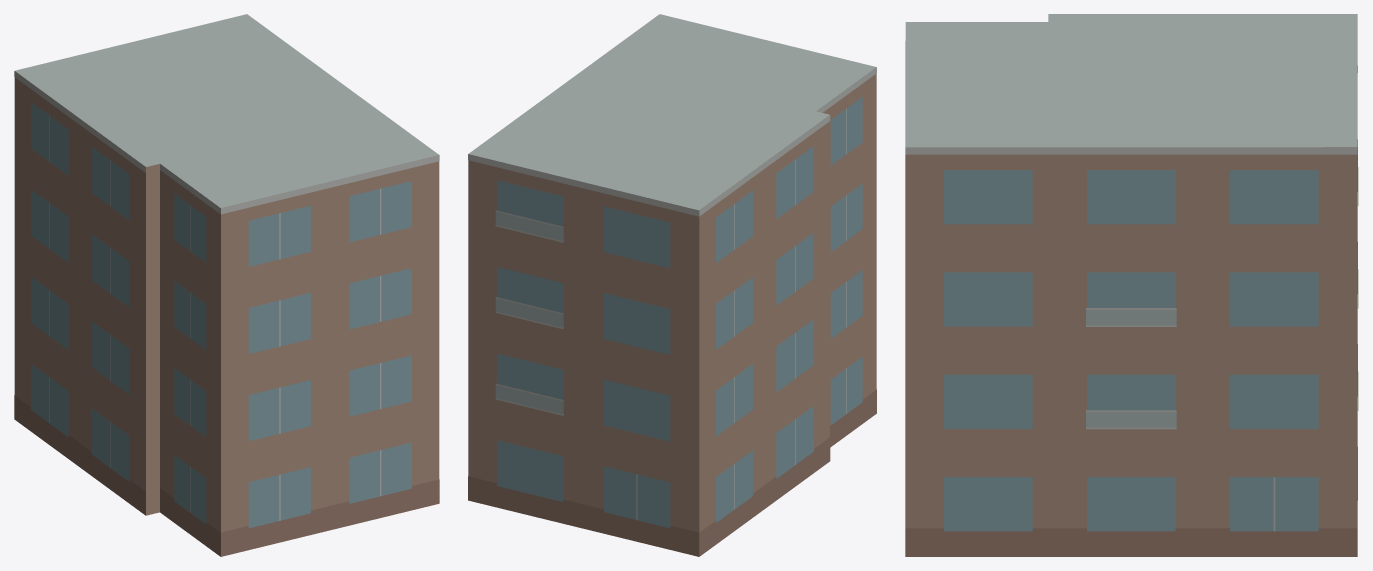
File: survey-upis-32550157.glb
The picture shows the model from 3 angles, left to right: view 1: azimuth 30°, elevation 25°; view 2: azimuth 150°, elevation 25°; view 3: azimuth 270°, elevation 25°; orthographic projection. The views are drawn at different scales.
Visible parts, largest first — view 1: survey-upis-32550157.tmp; view 2: survey-upis-32550157.tmp; view 3: survey-upis-32550157.tmp.
Part boxes in pixels (left/top/right/bottom): survey-upis-32550157.tmp: left=14, top=14, right=439, bottom=556; survey-upis-32550157.tmp: left=468, top=14, right=876, bottom=556; survey-upis-32550157.tmp: left=905, top=14, right=1358, bottom=556.
Bounding box in the file's own units: 9.56 × 13.63 × 13.69.
